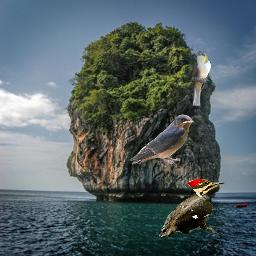Cuckoo: (191, 51, 211, 106)
Swallow: (129, 114, 194, 167)
Woodpecker: (159, 179, 226, 238)
